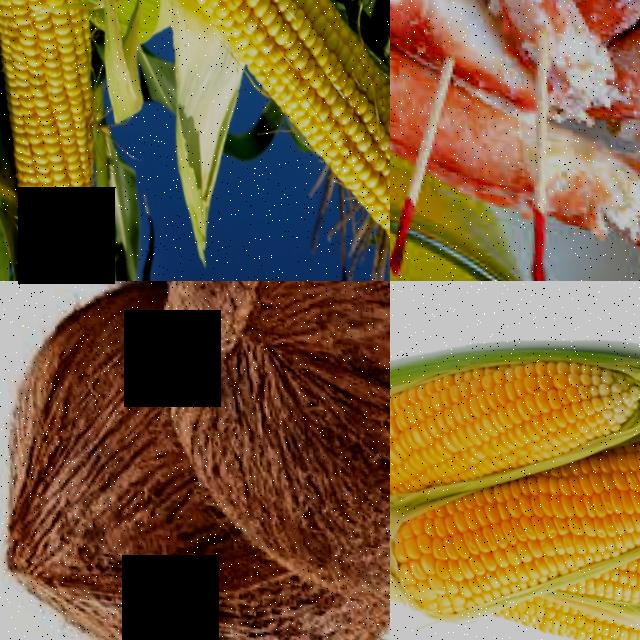coconut: (127, 281, 390, 618), (0, 281, 207, 640)
corn: (135, 0, 373, 151), (427, 337, 637, 491), (390, 477, 578, 637), (0, 0, 108, 277), (552, 406, 640, 564), (323, 85, 390, 281), (390, 342, 463, 521), (501, 588, 640, 640)
crab: (530, 106, 640, 281)
